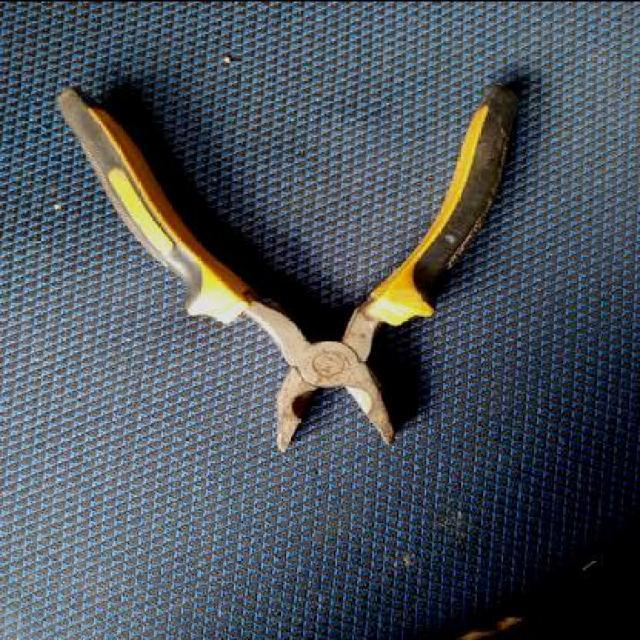pliers: (49, 64, 525, 468)
